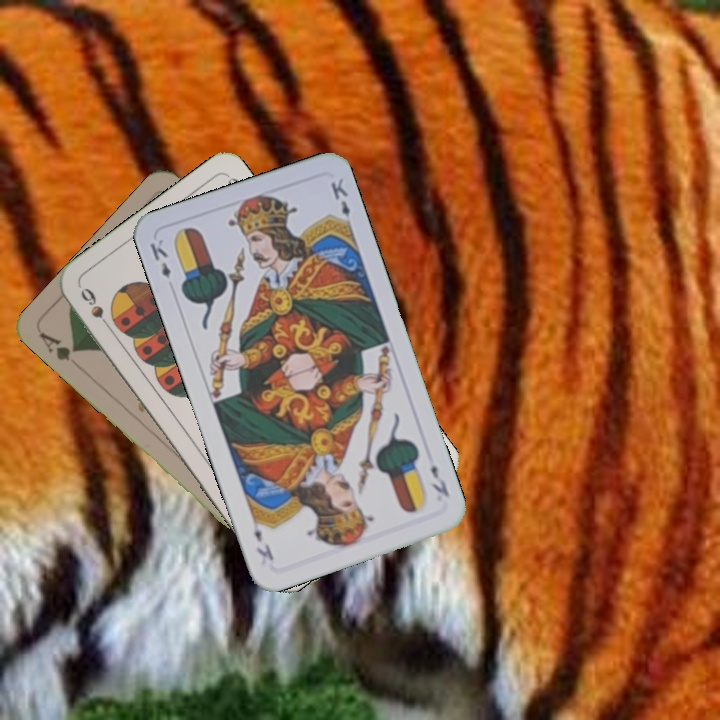EK: (145, 235, 174, 281), (426, 460, 452, 500)
GA: (34, 328, 82, 363)
S9: (76, 283, 116, 335)
